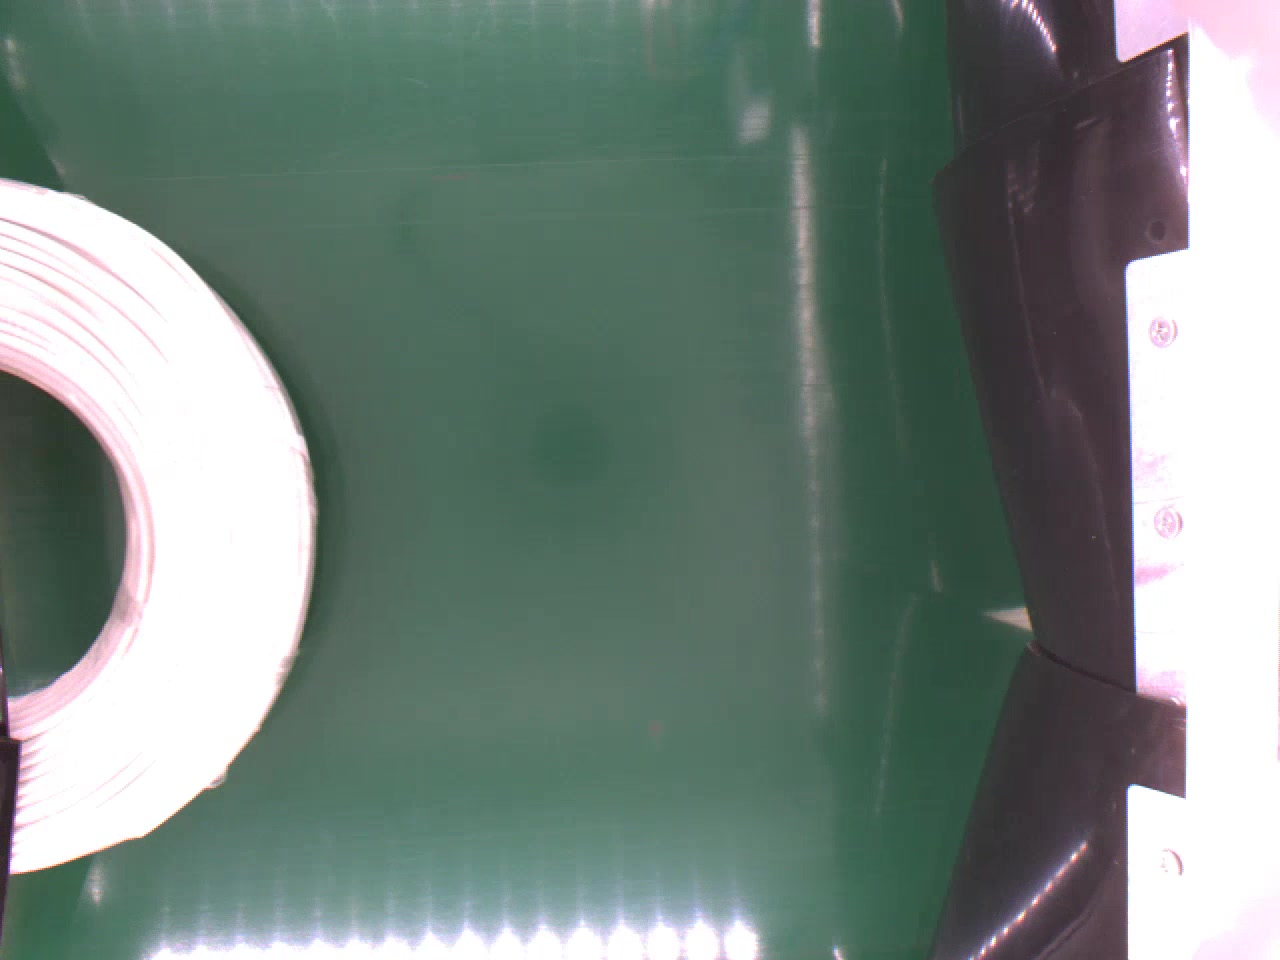white: (0, 169, 323, 875)
